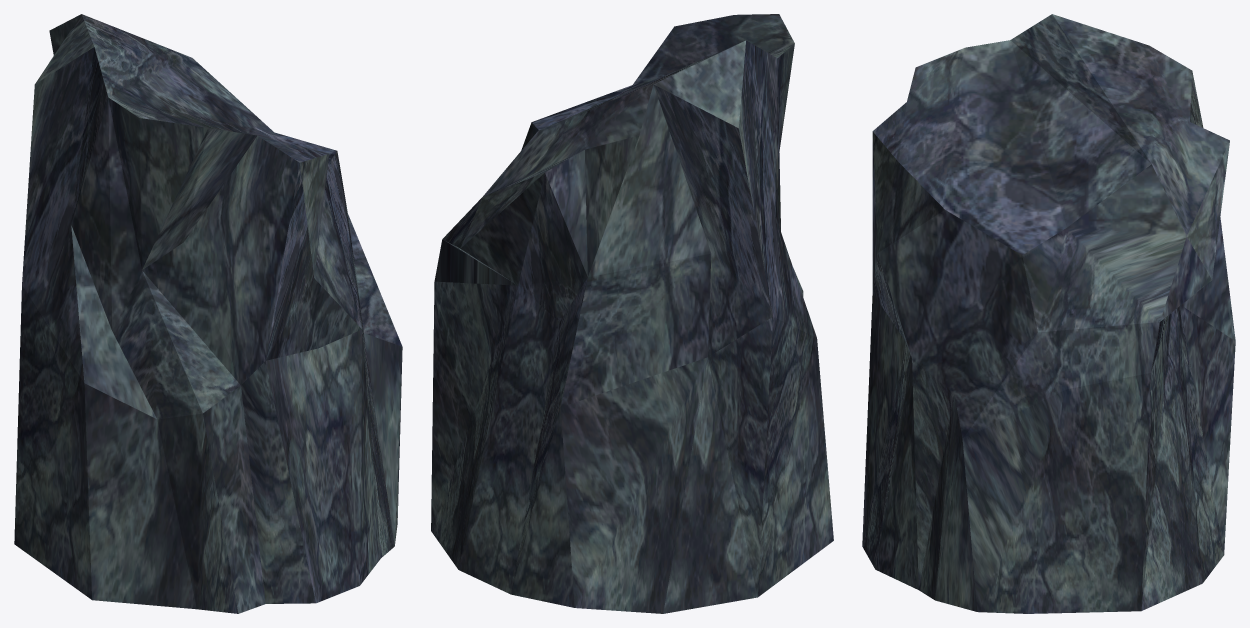
The model's file is C4SNLARGEROCKD.obj.
3 views of the same model, side by side, from view 1: azimuth 30°, elevation 25°; view 2: azimuth 150°, elevation 25°; view 3: azimuth 270°, elevation 25° (orthographic). The views are drawn at different scales.
Parts seen in each view (by area): view 1: Node 0; view 2: Node 0; view 3: Node 0.
Boxes of the visible parts, box(x1,y1,x2,y2) form: Node 0: box(14, 14, 402, 613); Node 0: box(431, 14, 833, 613); Node 0: box(862, 14, 1235, 613).
Bounding box in the file's own units: 8.56 × 13.27 × 9.38.
1 material, 1 textured.
